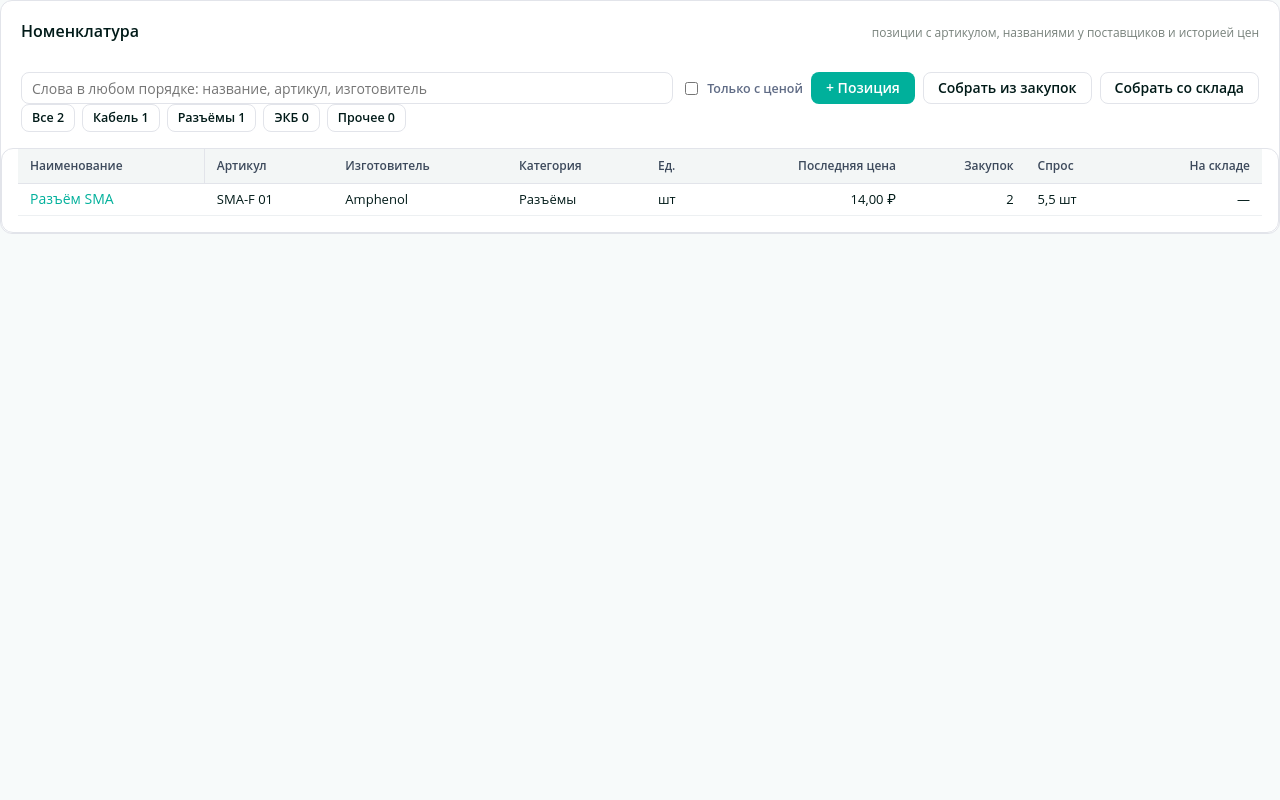
Test case: opens the card: aliases by supplier and the price history
Click the button "Разъём SMA".
click(72, 200)  # box [30,190,114,209]
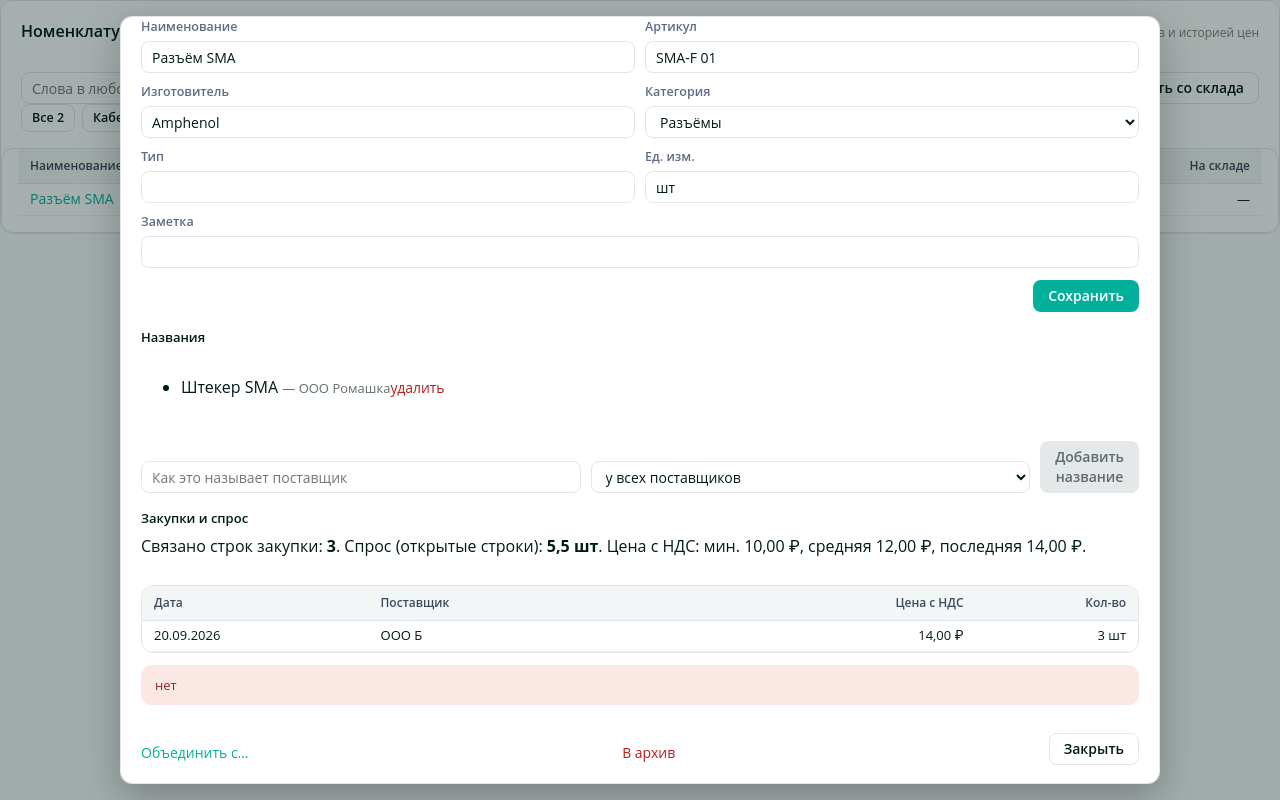
Expected: the list item "Штекер SMA" is shown, [181,376,278,398]
Expected: the text "— ООО Ромашка" is shown, [282,379,390,397]
Expected: the table named "История цен" shows "20.09.2026", [154,626,220,644]
